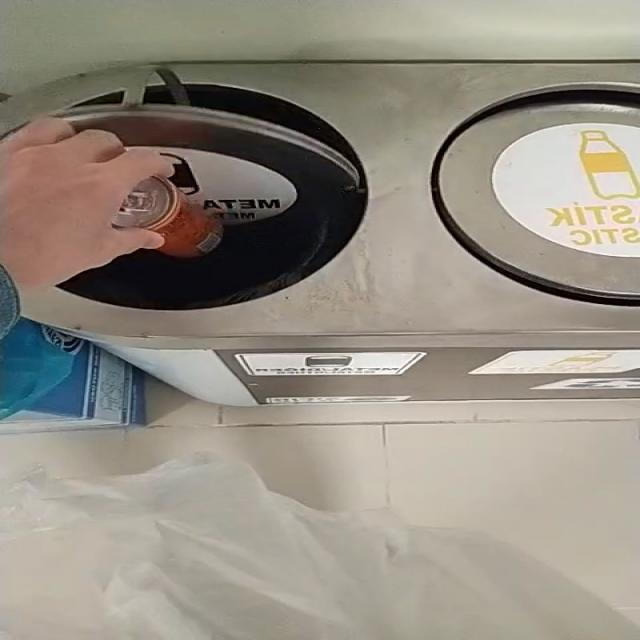bin: (1, 61, 640, 404), (59, 84, 367, 311)
metal: (112, 176, 223, 258)
